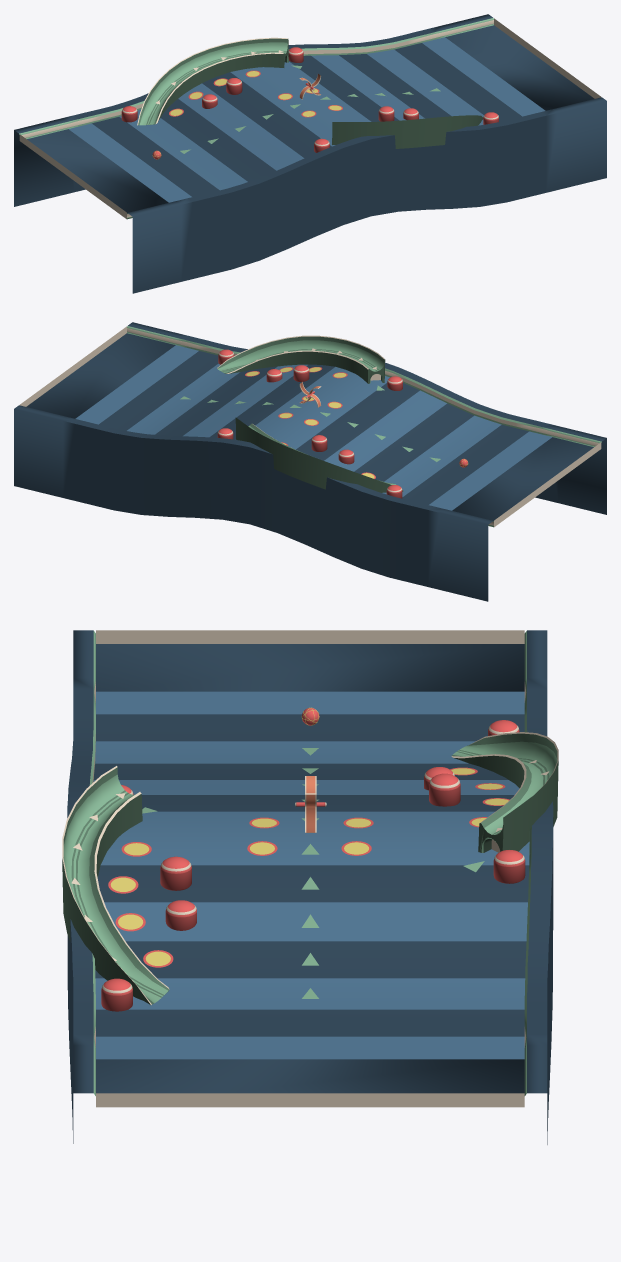
The model's file is table_kednar.fbx.
3 views of the same model, one above another, from view 1: azimuth 30°, elevation 25°; view 2: azimuth 150°, elevation 25°; view 3: azimuth 270°, elevation 25° (orthographic). The views are drawn at different scales.
Visible parts, largest first — view 1: table_base.L, ramp.top, ramp.bottom; view 2: table_base.L, ramp.bottom, ramp.top; view 3: table_base.L, ramp.bottom, ramp.top, bumpers.003, bumpers.002, bumpers.006, bumpers.004, bumpers.001.
Part boxes in pixels (x1,y1,x2,y2): table_base.L: (14,14,606,293); ramp.top: (137,37,288,125); ramp.bottom: (332,115,483,148); table_base.L: (14,322,606,601); ramp.bottom: (217,335,385,383); ramp.top: (235,417,403,492); table_base.L: (67,630,553,1144); ramp.bottom: (62,766,169,1005); ramp.top: (451,732,558,852); bumpers.003: (493,850,525,883); bumpers.002: (160,856,191,890); bumpers.006: (429,773,460,806); bumpers.004: (101,978,132,1011); bumpers.001: (165,900,196,930).
Size of what is drawn, in the model's own units: 2300 by 536 by 1042.
